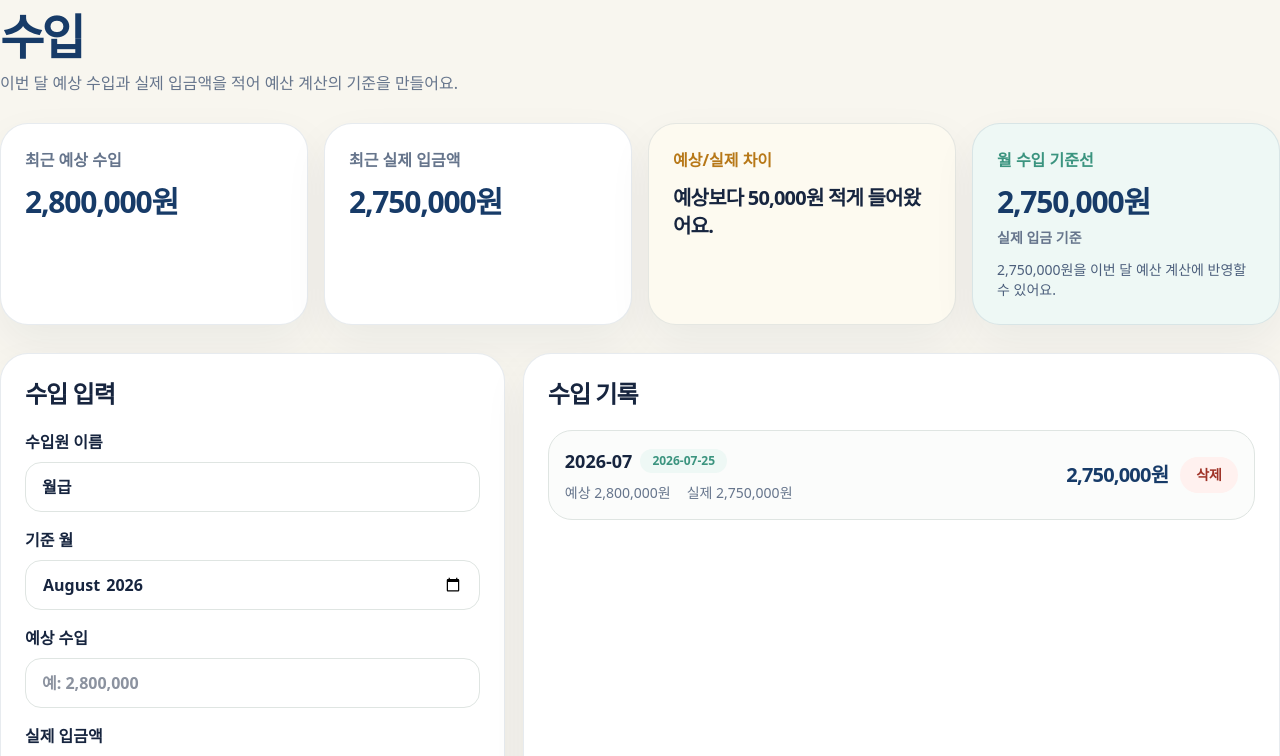
IncomePage › deletes an income entry after confirmation and reloads the list
Click the button with aria-label "2026-07 수입 삭제": (1209, 474) [1180,456,1238,492]
(page scrolled)
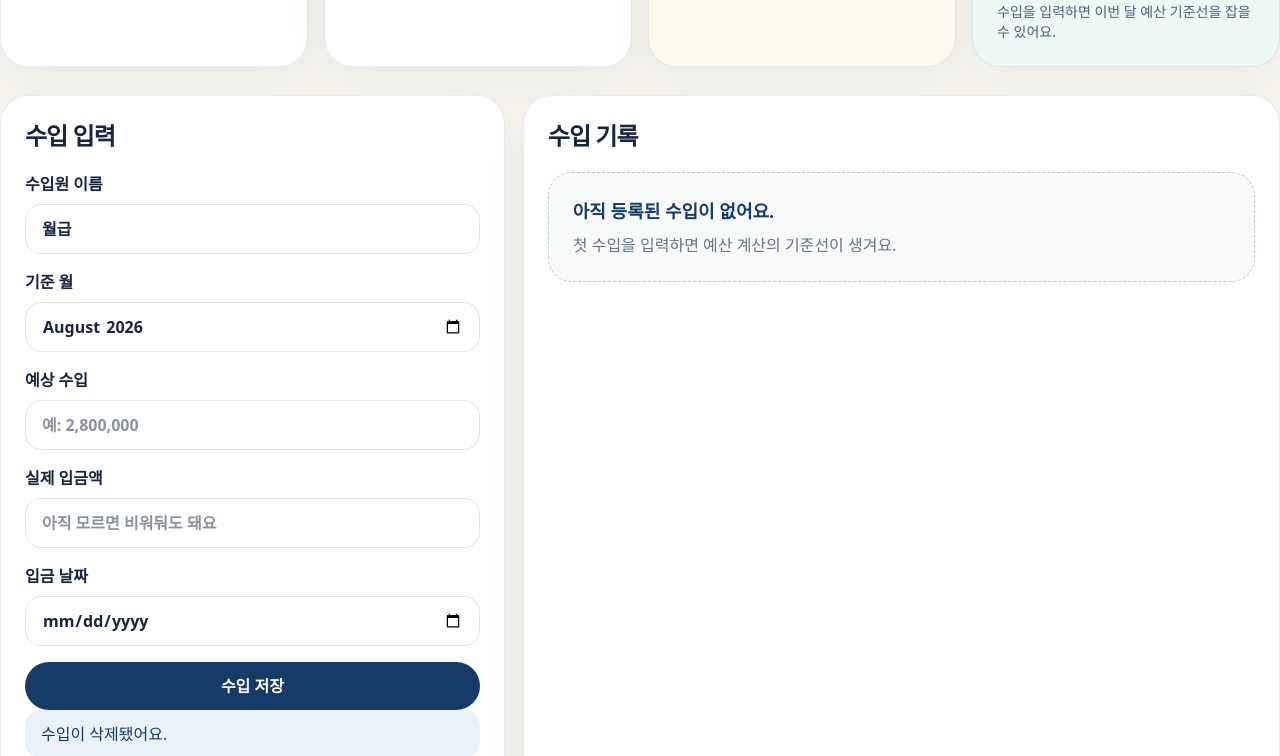
Expected: the text "아직 등록된 수입이 없어요." is shown, [573,198,774,222]
Expected: the message reads "수입이 삭제됐어요.", [41,722,167,744]
